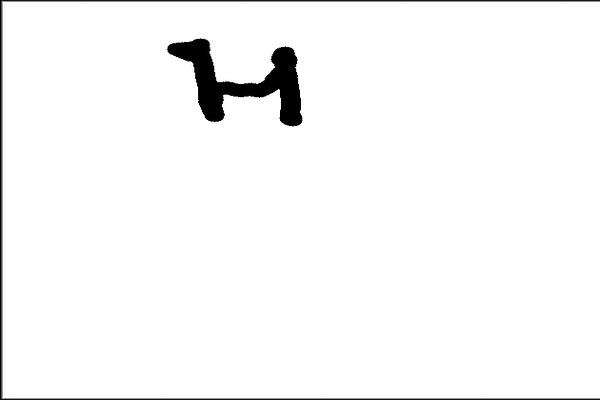H: (163, 33, 308, 133)
